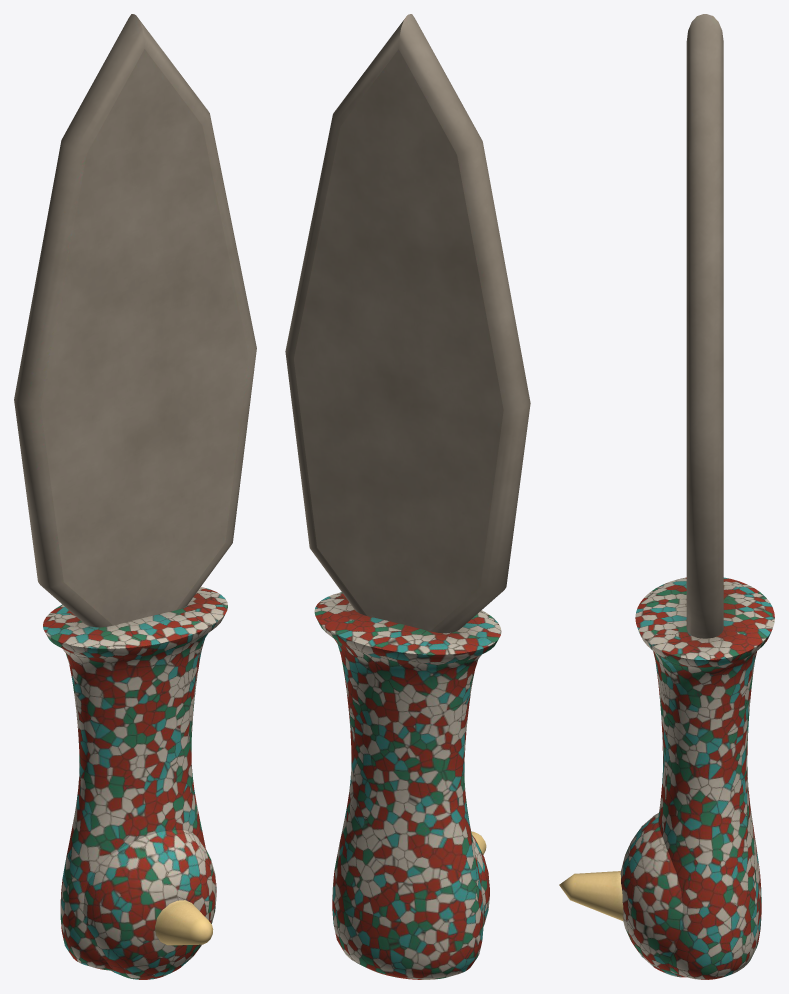
The model's file is tecpatl.glb.
3 views of the same model, side by side, from view 1: azimuth 30°, elevation 25°; view 2: azimuth 150°, elevation 25°; view 3: azimuth 270°, elevation 25° (orthographic).
Visible parts, largest first — view 1: tecpatl; view 2: tecpatl; view 3: tecpatl.
Part boxes in pixels (x1,y1,x2,y2): tecpatl: (14, 14, 256, 979); tecpatl: (285, 14, 530, 979); tecpatl: (559, 14, 774, 979).
Bounding box in the file's own units: 0.0821 × 0.3154 × 0.0645.
1 material, 1 textured.
